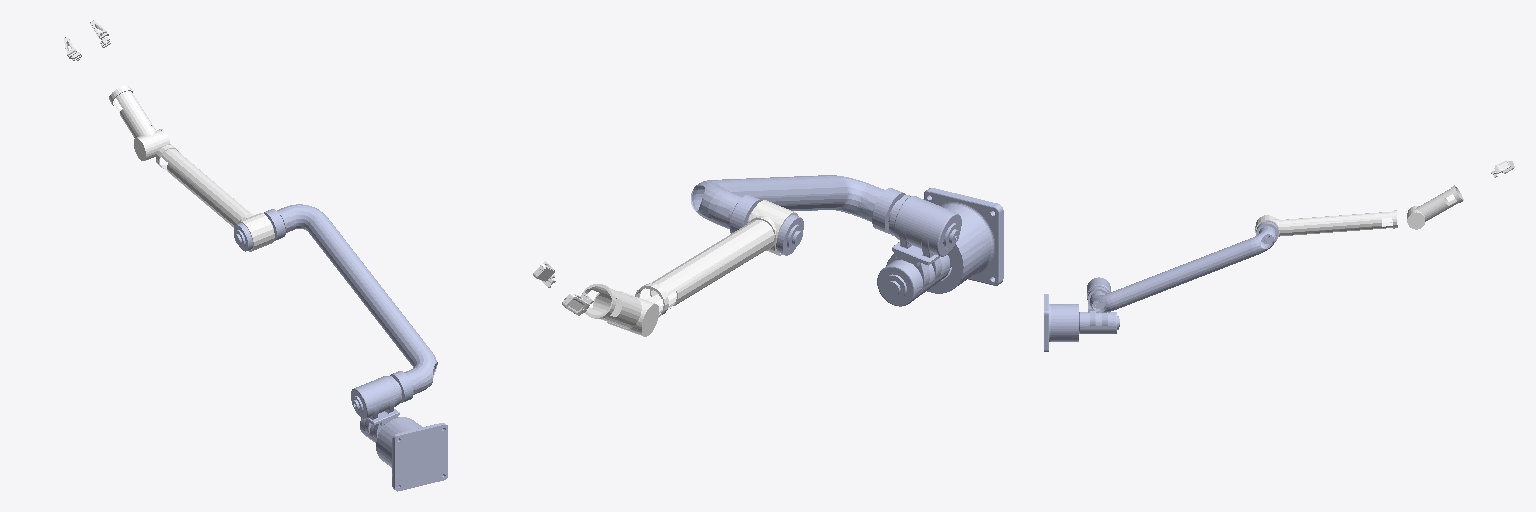
robot.urdf — station__starlink_sldasm9:
<?xml version='1.0' encoding='utf-8'?>
<robot name="station__starlink_sldasm9">
  <link name="base_link">
    <visual>
      <geometry>
        <mesh filename="../satellites/station/satellite.stl" />
      </geometry>
      <material name="satellite_grey">
        <color rgba=".6 .7 .8 1" />
      </material>
    </visual>
    <collision>
      <geometry>
        <mesh filename="../satellites/station/satellite.stl" />
      </geometry>
    </collision>
  </link>
  <link name="station_mount" />
  <joint name="satellite_mount_fixed" type="fixed">
    <parent link="base_link" />
    <child link="station_mount" />
    <origin xyz="-1.2 0.6066343669416991 0.0" rpy="-1.5707963267948966 -1.5707963267948966 0.0" />
  </joint>
  <link name="mount_support">
    <visual>
      <geometry>
        <mesh filename="../satellites/station/mount_support.stl" />
      </geometry>
      <material name="mount_green">
        <color rgba=".2 .7 .35 1" />
      </material>
    </visual>
    <collision>
      <geometry>
        <mesh filename="../satellites/station/mount_support.stl" />
      </geometry>
    </collision>
  </link>
  <joint name="support_fixed" type="fixed">
    <parent link="station_mount" />
    <child link="mount_support" />
    <origin xyz="0 0 0" rpy="0 0 0" />
  </joint>
  <joint name="arm_adapter_fixed" type="fixed">
    <parent link="station_mount" />
    <child link="starlink_space_manipulator_base_link" />
    <origin xyz="-0.008519247174263014 0.009087204933166518 0.15000000141561026" rpy="-1.5707963267948966 0 1.5707963267948966" />
  </joint>
  <link name="starlink_space_manipulator_base_link">
    <inertial>
      <origin xyz="-0.00908719924946466 0.0225428225681148 -0.00851924929637313" rpy="0 0 0" />
      <mass value="8.66024015898073" />
      <inertia ixx="0.0960303512697639" ixy="1.65511904636803E-18" ixz="6.22039820639877E-19" iyy="0.103454922260914" iyz="-9.68471289978311E-19" izz="0.0960303512697639" />
    </inertial>
    <visual>
      <origin xyz="0 0 0" rpy="0 0 0" />
      <geometry>
        <mesh filename="../arms/starlink_sldasm9/meshes/starlink_space_manipulator_base_link.STL" />
      </geometry>
      <material name="">
        <color rgba="0.792156862745098 0.819607843137255 0.933333333333333 1" />
      </material>
    </visual>
    <collision>
      <origin xyz="0 0 0" rpy="0 0 0" />
      <geometry>
        <mesh filename="../arms/starlink_sldasm9/meshes/starlink_space_manipulator_base_link.STL" />
      </geometry>
    </collision>
  </link>
  <link name="starlink_space_manipulator_Shoulder_link_1">
    <inertial>
      <origin xyz="-0.000399471745595769 -0.100006574194712 -0.17423940484461" rpy="0 0 0" />
      <mass value="5.16309216784981" />
      <inertia ixx="0.0524543852135592" ixy="0.00348154867667969" ixz="6.96526910910627E-05" iyy="0.0306595326318824" iyz="-0.00056674368052247" izz="0.0439979075615329" />
    </inertial>
    <visual>
      <origin xyz="0 0 0" rpy="0 0 0" />
      <geometry>
        <mesh filename="../arms/starlink_sldasm9/meshes/starlink_space_manipulator_Shoulder_link_1.STL" />
      </geometry>
      <material name="">
        <color rgba="0.792156862745098 0.819607843137255 0.933333333333333 1" />
      </material>
    </visual>
    <collision>
      <origin xyz="0 0 0" rpy="0 0 0" />
      <geometry>
        <mesh filename="../arms/starlink_sldasm9/meshes/starlink_space_manipulator_Shoulder_link_1.STL" />
      </geometry>
    </collision>
  </link>
  <joint name="starlink_space_manipulator_Shoulder_link_1_yaw" type="revolute">
    <origin xyz="-0.0090872 -0.065 -0.0085192" rpy="1.5708 -0.15574 3.1416" />
    <parent link="starlink_space_manipulator_base_link" />
    <child link="starlink_space_manipulator_Shoulder_link_1" />
    <axis xyz="0 0 -1" />
    <limit lower="-3.14" upper="3.14" effort="0" velocity="0" />
  </joint>
  <link name="starlink_space_manipulator_Upper_arm_Link_1">
    <inertial>
      <origin xyz="0.402106341472203 -0.696465272634528 -0.170177523085579" rpy="0 0 0" />
      <mass value="5.05309869040685" />
      <inertia ixx="0.388719013133801" ixy="0.210155896498943" ixz="9.30829370680679E-08" iyy="0.146049057575642" iyz="1.71830458004218E-07" izz="0.500677708275447" />
    </inertial>
    <visual>
      <origin xyz="0 0 0" rpy="0 0 0" />
      <geometry>
        <mesh filename="../arms/starlink_sldasm9/meshes/starlink_space_manipulator_Upper_arm_Link_1.STL" />
      </geometry>
      <material name="">
        <color rgba="0.792156862745098 0.819607843137255 0.933333333333333 1" />
      </material>
    </visual>
    <collision>
      <origin xyz="0 0 0" rpy="0 0 0" />
      <geometry>
        <mesh filename="../arms/starlink_sldasm9/meshes/starlink_space_manipulator_Upper_arm_Link_1.STL" />
      </geometry>
    </collision>
  </link>
  <joint name="starlink_space_manipulator_Upper_arm_Link_1_roll" type="revolute">
    <origin xyz="0 -0.2 -0.18" rpy="1.5708 0.90646 1.5708" />
    <parent link="starlink_space_manipulator_Shoulder_link_1" />
    <child link="starlink_space_manipulator_Upper_arm_Link_1" />
    <axis xyz="0 0 -1" />
    <limit lower="-2" upper="1.5" effort="0" velocity="0" />
  </joint>
  <link name="starlink_space_manipulator_Mid_arm_Link_1">
    <inertial>
      <origin xyz="-0.000406052776441013 0.317722269561105 0.0155331755135703" rpy="0 0 0" />
      <mass value="1.57635531881168" />
      <inertia ixx="0.133610363618846" ixy="5.33750993405138E-05" ixz="-3.60473795202962E-09" iyy="0.00502119434334708" iyz="-2.514275749911E-05" izz="0.134586018527477" />
    </inertial>
    <visual>
      <origin xyz="0 0 0" rpy="0 0 0" />
      <geometry>
        <mesh filename="../arms/starlink_sldasm9/meshes/starlink_space_manipulator_Mid_arm_Link_1.STL" />
      </geometry>
      <material name="">
        <color rgba="1 1 1 1" />
      </material>
    </visual>
    <collision>
      <origin xyz="0 0 0" rpy="0 0 0" />
      <geometry>
        <mesh filename="../arms/starlink_sldasm9/meshes/starlink_space_manipulator_Mid_arm_Link_1.STL" />
      </geometry>
    </collision>
  </link>
  <joint name="starlink_space_manipulator_Mid_arm_Link_1_roll" type="revolute">
    <origin xyz="0.599999999999673 -1.03923048454122 0" rpy="-3.14159265358979 0 0.828250280535091" />
    <parent link="starlink_space_manipulator_Upper_arm_Link_1" />
    <child link="starlink_space_manipulator_Mid_arm_Link_1" />
    <axis xyz="0 0 -1" />
    <limit lower="-3.14" upper="3.14" effort="0" velocity="0" />
  </joint>
  <link name="starlink_space_manipulator_Upper_wrist_Link_1">
    <inertial>
      <origin xyz="-0.000400003664721815 -0.201565878030355 -0.00216705855311664" rpy="0 0 0" />
      <mass value="0.994770641034713" />
      <inertia ixx="0.00165409639029414" ixy="-7.59103925411082E-06" ixz="-3.17403155320863E-06" iyy="0.00201437937768072" iyz="2.63246464091218E-06" izz="0.00159638838344539" />
    </inertial>
    <visual>
      <origin xyz="0 0 0" rpy="0 0 0" />
      <geometry>
        <mesh filename="../arms/starlink_sldasm9/meshes/starlink_space_manipulator_Upper_wrist_Link_1.STL" />
      </geometry>
      <material name="">
        <color rgba="0.792156862745098 0.819607843137255 0.933333333333333 1" />
      </material>
    </visual>
    <collision>
      <origin xyz="0 0 0" rpy="0 0 0" />
      <geometry>
        <mesh filename="../arms/starlink_sldasm9/meshes/starlink_space_manipulator_Upper_wrist_Link_1.STL" />
      </geometry>
    </collision>
  </link>
  <joint name="starlink_space_manipulator_Upper_wrist_Link_1_yaw" type="revolute">
    <origin xyz="-0.00050155183276912 0.686793643713439 0.0155010481432086" rpy="0 -0.0763876794035917 3.14159265358979" />
    <parent link="starlink_space_manipulator_Mid_arm_Link_1" />
    <child link="starlink_space_manipulator_Upper_wrist_Link_1" />
    <axis xyz="0 -1 0" />
    <limit lower="-3.14" upper="3.14" effort="0" velocity="0" />
  </joint>
  <link name="starlink_space_manipulator_Upper_wrist_Link_2">
    <inertial>
      <origin xyz="8.45304168883843E-08 0.0848318719623631 -0.00515657391755576" rpy="0 0 0" />
      <mass value="1.03716823037577" />
      <inertia ixx="0.0100970561498589" ixy="1.32295633551837E-09" ixz="-9.43675929999229E-09" iyy="0.00222325407426665" iyz="-2.08772874866187E-06" izz="0.0105840577017538" />
    </inertial>
    <visual>
      <origin xyz="0 0 0" rpy="0 0 0" />
      <geometry>
        <mesh filename="../arms/starlink_sldasm9/meshes/starlink_space_manipulator_Upper_wrist_Link_2.STL" />
      </geometry>
      <material name="">
        <color rgba="1 1 1 1" />
      </material>
    </visual>
    <collision>
      <origin xyz="0 0 0" rpy="0 0 0" />
      <geometry>
        <mesh filename="../arms/starlink_sldasm9/meshes/starlink_space_manipulator_Upper_wrist_Link_2.STL" />
      </geometry>
    </collision>
  </link>
  <joint name="starlink_space_manipulator_Upper_wrist_Link_2_roll" type="revolute">
    <origin xyz="0 -0.30020635628656 0" rpy="-0.0158640776811277 -0.0317448426184613 -2.67805461574742" />
    <parent link="starlink_space_manipulator_Upper_wrist_Link_1" />
    <child link="starlink_space_manipulator_Upper_wrist_Link_2" />
    <axis xyz="0 0 1" />
    <limit lower="-2.5" upper="1.8" effort="0" velocity="0" />
  </joint>
  <link name="starlink__space_manipulator_2F-Body_Link">
    <inertial>
      <origin xyz="0.000132893636818288 -0.122912145301831 0.000141178527731878" rpy="0 0 0" />
      <mass value="2.06098061435798" />
      <inertia ixx="0.00357820981002093" ixy="-9.7173781739015E-06" ixz="-0.000377950837415894" iyy="0.00540179107539635" iyz="3.57093943209629E-06" izz="0.0050632324449311" />
    </inertial>
    <visual>
      <origin xyz="0 0 0" rpy="0 0 0" />
      <geometry>
        <mesh filename="../arms/starlink_sldasm9/meshes/starlink__space_manipulator_2F-Body_Link.STL" />
      </geometry>
      <material name="">
        <color rgba="0.792156862745098 0.819607843137255 0.933333333333333 1" />
      </material>
    </visual>
    <collision>
      <origin xyz="0 0 0" rpy="0 0 0" />
      <geometry>
        <mesh filename="../arms/starlink_sldasm9/meshes/starlink__space_manipulator_2F-Body_Link.STL" />
      </geometry>
    </collision>
  </link>
  <joint name="starlink__space_manipulator_2F-Body_Link_yaw" type="revolute">
    <origin xyz="0 0.34845 -0.0053813" rpy="-3.1416 0.93592 0" />
    <parent link="starlink_space_manipulator_Upper_wrist_Link_2" />
    <child link="starlink__space_manipulator_2F-Body_Link" />
    <axis xyz="0 -1 0" />
    <limit lower="-3.14" upper="3.14" effort="0" velocity="0" />
  </joint>
  <link name="starlink_space_manipulator_Finger1_2_Link">
    <inertial>
      <origin xyz="-0.128379781160824 0.00213384929263816 0.20765530277947" rpy="0 0 0" />
      <mass value="0.164012557851557" />
      <inertia ixx="0.000137377814382494" ixy="5.75324125943043E-07" ixz="1.56204374379134E-05" iyy="0.000128174497717794" iyz="2.8915711708103E-06" izz="5.56877077151319E-05" />
    </inertial>
    <visual>
      <origin xyz="0 0 0" rpy="0 0 0" />
      <geometry>
        <mesh filename="../arms/starlink_sldasm9/meshes/starlink_space_manipulator_Finger1_2_Link.STL" />
      </geometry>
      <material name="">
        <color rgba="1 1 1 1" />
      </material>
    </visual>
    <collision>
      <origin xyz="0 0 0" rpy="0 0 0" />
      <geometry>
        <mesh filename="../arms/starlink_sldasm9/meshes/starlink_space_manipulator_Finger1_2_Link.STL" />
      </geometry>
    </collision>
  </link>
  <joint name="starlink_space_manipulator_Finger1_2_Link_roll" type="prismatic">
    <origin xyz="-0.2017 -0.10916 -0.04801" rpy="-1.5708 0.22747 -3.1416" />
    <parent link="starlink__space_manipulator_2F-Body_Link" />
    <child link="starlink_space_manipulator_Finger1_2_Link" />
    <axis xyz="-1 0 0" />
    <limit lower="0.0" upper="0.04" effort="20" velocity="0" />
  </joint>
  <link name="starlink_space_manipulator_Finger2_1_Link">
    <inertial>
      <origin xyz="-0.128379783275286 0.0021338497374519 0.207655316264438" rpy="0 0 0" />
      <mass value="0.164012525176243" />
      <inertia ixx="0.000137377758573247" ixy="5.75327227385201E-07" ixz="1.56204303396715E-05" iyy="0.00012817444752134" iyz="2.89153901545968E-06" izz="5.5687711839857E-05" />
    </inertial>
    <visual>
      <origin xyz="0 0 0" rpy="0 0 0" />
      <geometry>
        <mesh filename="../arms/starlink_sldasm9/meshes/starlink_space_manipulator_Finger2_1_Link.STL" />
      </geometry>
      <material name="">
        <color rgba="1 1 1 1" />
      </material>
    </visual>
    <collision>
      <origin xyz="0 0 0" rpy="0 0 0" />
      <geometry>
        <mesh filename="../arms/starlink_sldasm9/meshes/starlink_space_manipulator_Finger2_1_Link.STL" />
      </geometry>
    </collision>
  </link>
  <joint name="starlink_space_manipulator_Finger2_1_Link_roll" type="prismatic">
    <origin xyz="0.20865 -0.10916 0.049619" rpy="1.5708 -0.22747 0" />
    <parent link="starlink__space_manipulator_2F-Body_Link" />
    <child link="starlink_space_manipulator_Finger2_1_Link" />
    <axis xyz="-1 0 0" />
    <limit lower="0.0" upper="0.04" effort="20" velocity="0" />
  </joint>
</robot>

--- What the picture shows (computed from the rendered views, not written in the file) ---
The picture shows the robot from 3 angles, left to right: view 1: azimuth 30°, elevation 25°; view 2: azimuth 150°, elevation 25°; view 3: azimuth 270°, elevation 25°; orthographic projection.
Model station__starlink_sldasm9 with 12 links and 11 joints (6 revolute, 2 prismatic, 3 fixed), rooted at base_link, posed all joints at 0.
Links seen in each view (by area): view 1: starlink_space_manipulator_Upper_arm_Link_1, starlink_space_manipulator_base_link, starlink_space_manipulator_Mid_arm_Link_1, starlink_space_manipulator_Shoulder_link_1, starlink_space_manipulator_Upper_wrist_Link_2; view 2: starlink_space_manipulator_Upper_arm_Link_1, starlink_space_manipulator_Shoulder_link_1, starlink_space_manipulator_Mid_arm_Link_1, starlink_space_manipulator_base_link, starlink_space_manipulator_Upper_wrist_Link_2; view 3: starlink_space_manipulator_Upper_arm_Link_1, starlink_space_manipulator_Mid_arm_Link_1, starlink_space_manipulator_base_link, starlink_space_manipulator_Shoulder_link_1, starlink_space_manipulator_Upper_wrist_Link_2.
Link boxes in pixels (x1,y1,x2,y2): starlink_space_manipulator_Upper_arm_Link_1: (234, 204, 437, 406); starlink_space_manipulator_base_link: (376, 417, 447, 491); starlink_space_manipulator_Mid_arm_Link_1: (156, 145, 274, 251); starlink_space_manipulator_Shoulder_link_1: (351, 371, 413, 442); starlink_space_manipulator_Upper_wrist_Link_2: (109, 86, 170, 160); starlink_space_manipulator_Upper_arm_Link_1: (691, 175, 957, 255); starlink_space_manipulator_Shoulder_link_1: (872, 188, 961, 306); starlink_space_manipulator_Mid_arm_Link_1: (635, 200, 798, 316); starlink_space_manipulator_base_link: (924, 188, 1003, 293); starlink_space_manipulator_Upper_wrist_Link_2: (584, 284, 658, 336); starlink_space_manipulator_Upper_arm_Link_1: (1090, 221, 1278, 312); starlink_space_manipulator_Mid_arm_Link_1: (1255, 210, 1397, 236); starlink_space_manipulator_base_link: (1044, 294, 1078, 351); starlink_space_manipulator_Shoulder_link_1: (1079, 277, 1119, 333); starlink_space_manipulator_Upper_wrist_Link_2: (1407, 185, 1463, 229).
Bounding box of the posed robot: 0.5961 × 3.11 × 1.3 m (x, y, z).
7 mesh visuals loaded from 11 distinct referenced files (7 binary STL); not drawn: 4 (reference not matched to a file when rendering).
